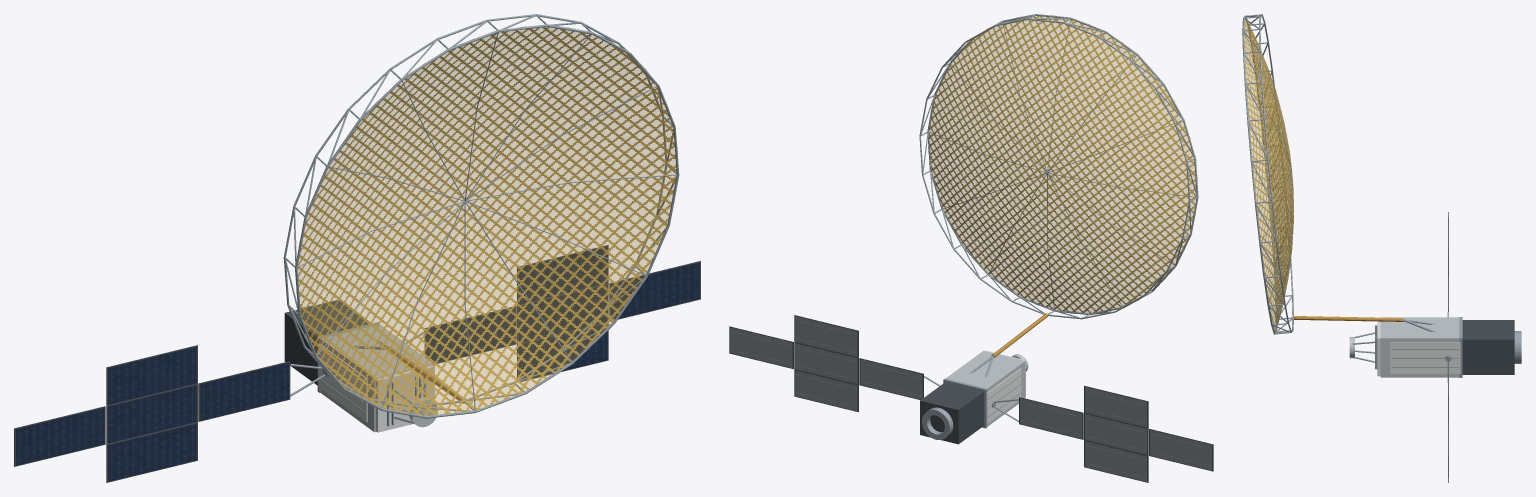
The model's file is ref-fs-1300o-35496.glb.
3 renders of one model, left to right at view 1: azimuth 30°, elevation 25°; view 2: azimuth 150°, elevation 25°; view 3: azimuth 270°, elevation 25°, orthographic. The views are drawn at different scales.
Parts seen in each view (by area): view 1: Deployable mesh reflector, Solar cell panel (×10), Payload module, Service module, Earth-facing deck, Radiator face; view 2: Deployable mesh reflector, Rear array substrate (×10), Service module, Payload module, Radiator face, Launch adapter ring; view 3: Deployable mesh reflector, Service module, Payload module, Radiator face, Reflector deployment boom.
Boxes of the visible parts, x1,y1,x2,y2 form: Deployable mesh reflector: [296, 26, 677, 416]; Solar cell panel (×10): [16, 246, 699, 481]; Payload module: [320, 324, 433, 432]; Service module: [284, 300, 367, 385]; Earth-facing deck: [375, 365, 434, 432]; Radiator face: [318, 344, 367, 422]; Deployable mesh reflector: [928, 15, 1197, 313]; Rear array substrate (×10): [730, 316, 1212, 481]; Service module: [920, 382, 983, 444]; Payload module: [946, 351, 1025, 426]; Radiator face: [987, 368, 1021, 423]; Launch adapter ring: [922, 407, 953, 439]; Deployable mesh reflector: [1243, 16, 1293, 332]; Service module: [1462, 320, 1514, 374]; Payload module: [1380, 317, 1459, 377]; Radiator face: [1390, 342, 1460, 373]; Reflector deployment boom: [1293, 316, 1403, 321].
Size of the model in its own units: 32.36 by 22.38 by 15.7.
8 materials, 2 textured.
